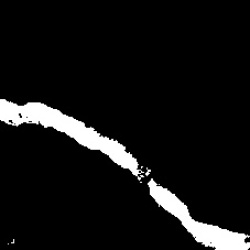crack: (2, 99, 248, 248)
